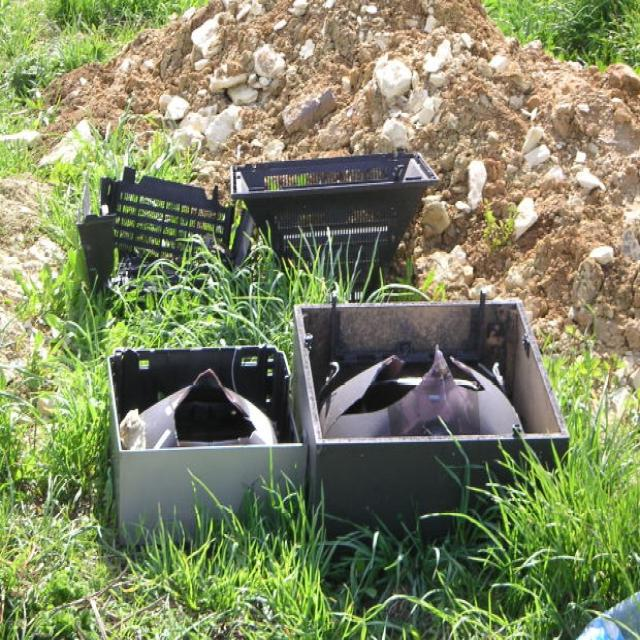metal: (109, 296, 566, 537)
plastic: (83, 140, 448, 278)
